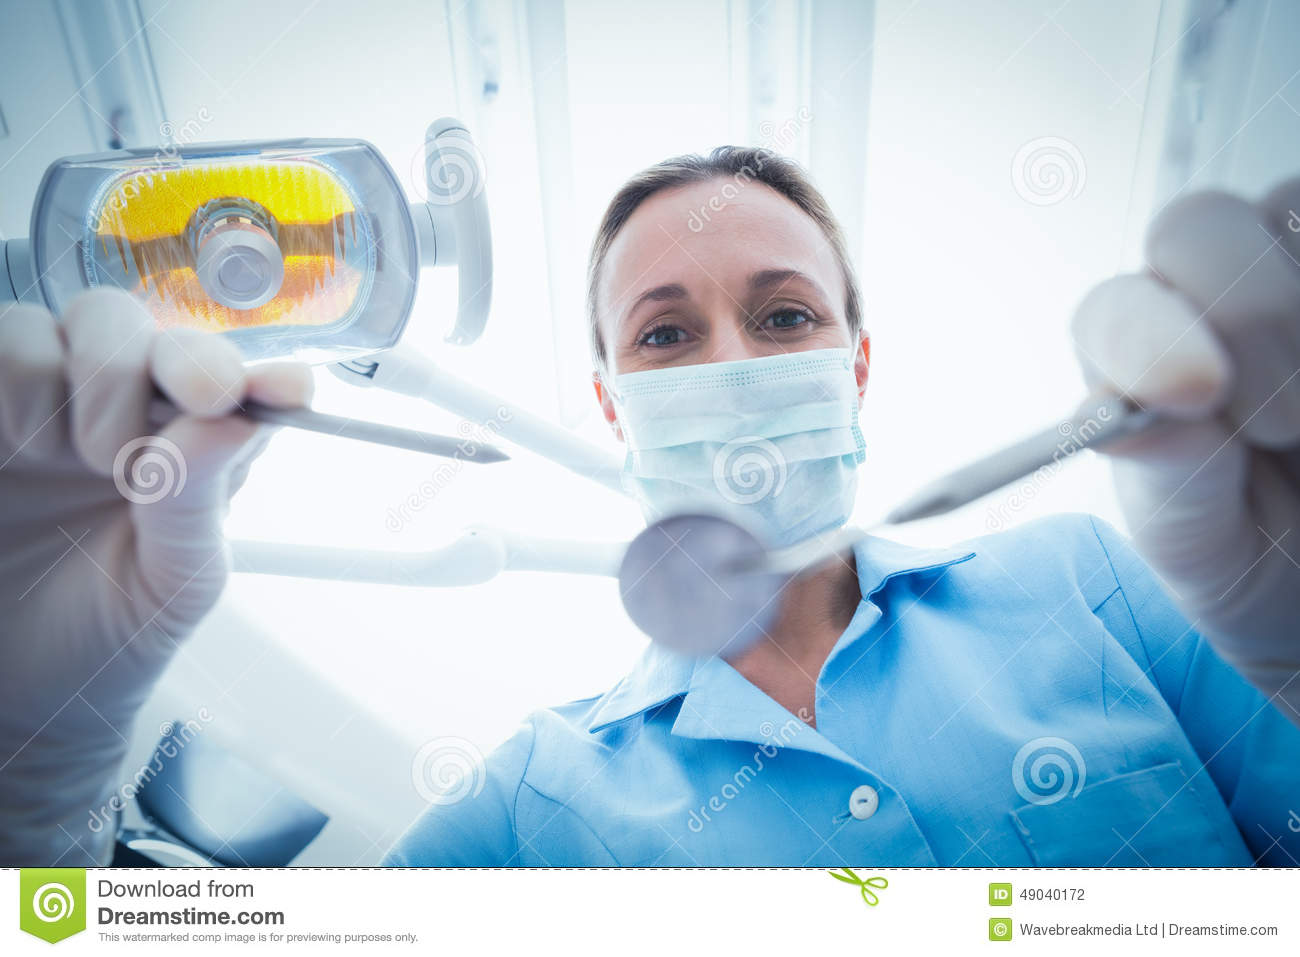mask: (599, 333, 912, 569)
